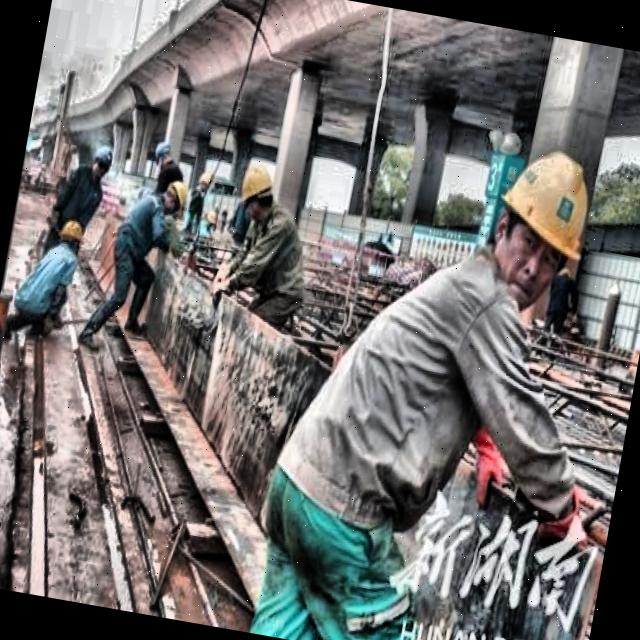helmet: (468, 121, 610, 321), (234, 158, 279, 226), (54, 208, 93, 264), (81, 140, 118, 188), (155, 175, 191, 214), (150, 136, 177, 170)
